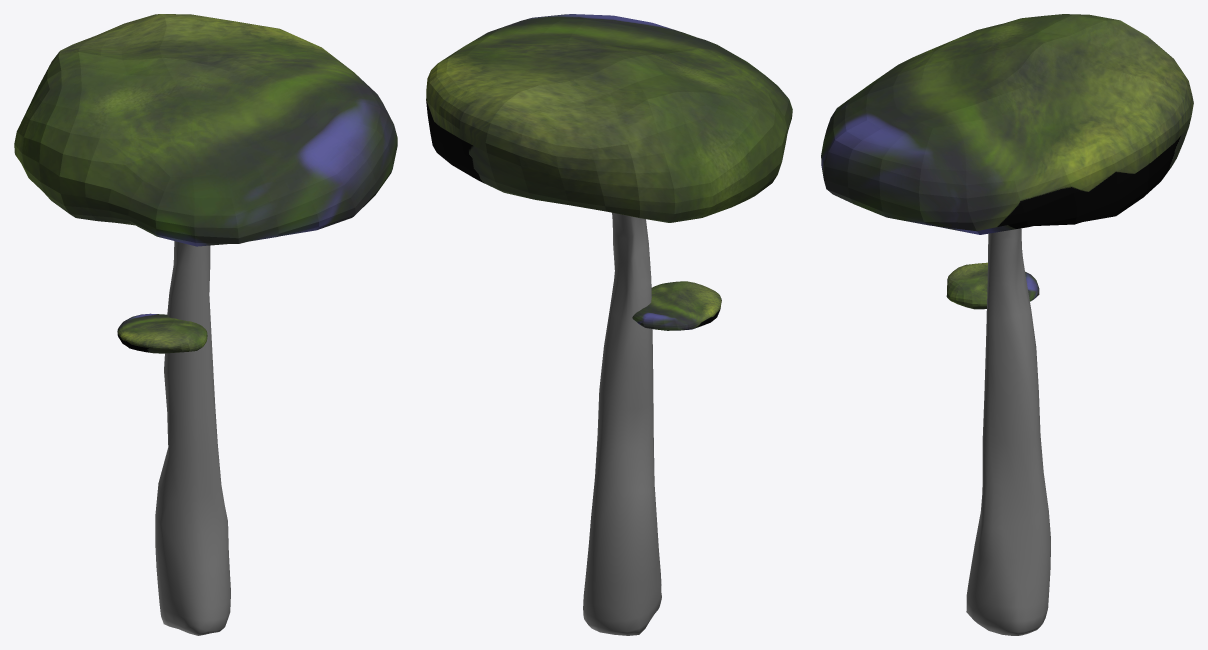
The model's file is tree01.DAE.
3 renders of one model, left to right at view 1: azimuth 30°, elevation 25°; view 2: azimuth 150°, elevation 25°; view 3: azimuth 270°, elevation 25°, orthographic. The views are drawn at different scales.
Parts seen in each view (by area): view 1: tree01; view 2: tree01; view 3: tree01.
Part boxes in pixels (left/top/right/bottom): tree01: left=14, top=14, right=397, bottom=635; tree01: left=426, top=14, right=792, bottom=635; tree01: left=821, top=14, right=1193, bottom=635.
Bounding box in the file's own units: 992 × 1676 × 991.
